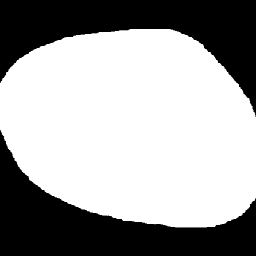mass: (7, 30, 253, 211)
